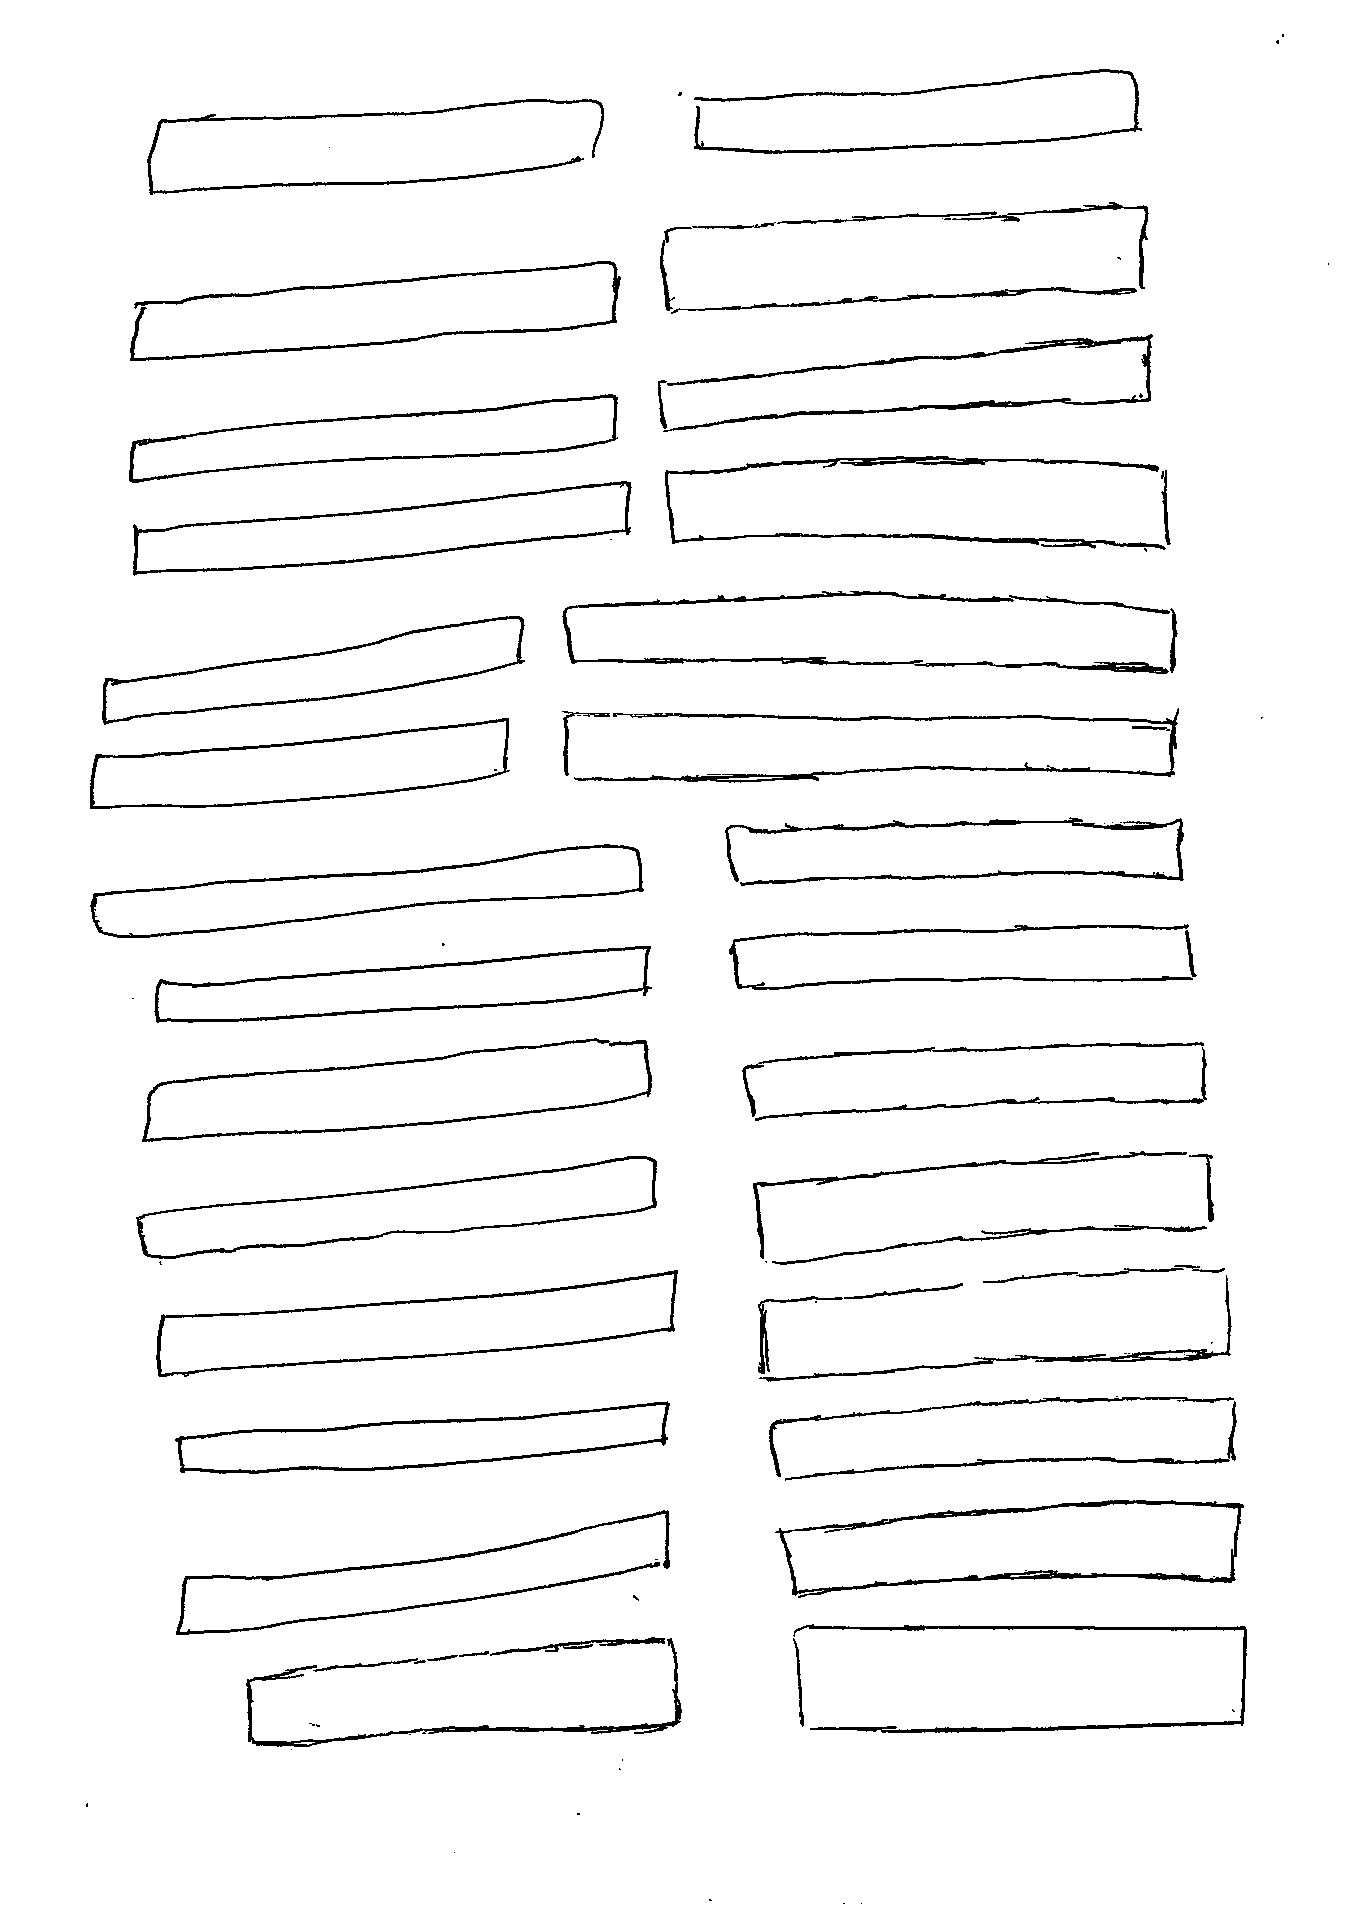Textbox: (171, 1508, 671, 1638), (154, 1269, 677, 1377), (755, 1266, 1234, 1382), (752, 1150, 1217, 1270), (135, 1156, 658, 1261), (140, 1038, 652, 1144), (90, 843, 645, 939), (659, 206, 1152, 313), (560, 590, 1180, 676), (655, 333, 1156, 435), (244, 1632, 682, 1749), (127, 260, 619, 364), (789, 1623, 1248, 1731), (132, 479, 633, 577), (661, 455, 1172, 549), (101, 615, 523, 724), (773, 1501, 1242, 1598), (146, 98, 608, 197), (129, 392, 619, 483), (560, 711, 1177, 784), (86, 716, 510, 812), (152, 943, 650, 1025), (767, 1394, 1237, 1480), (692, 69, 1140, 157), (176, 1400, 670, 1476), (741, 1042, 1208, 1121), (729, 923, 1199, 991), (723, 818, 1186, 886)
